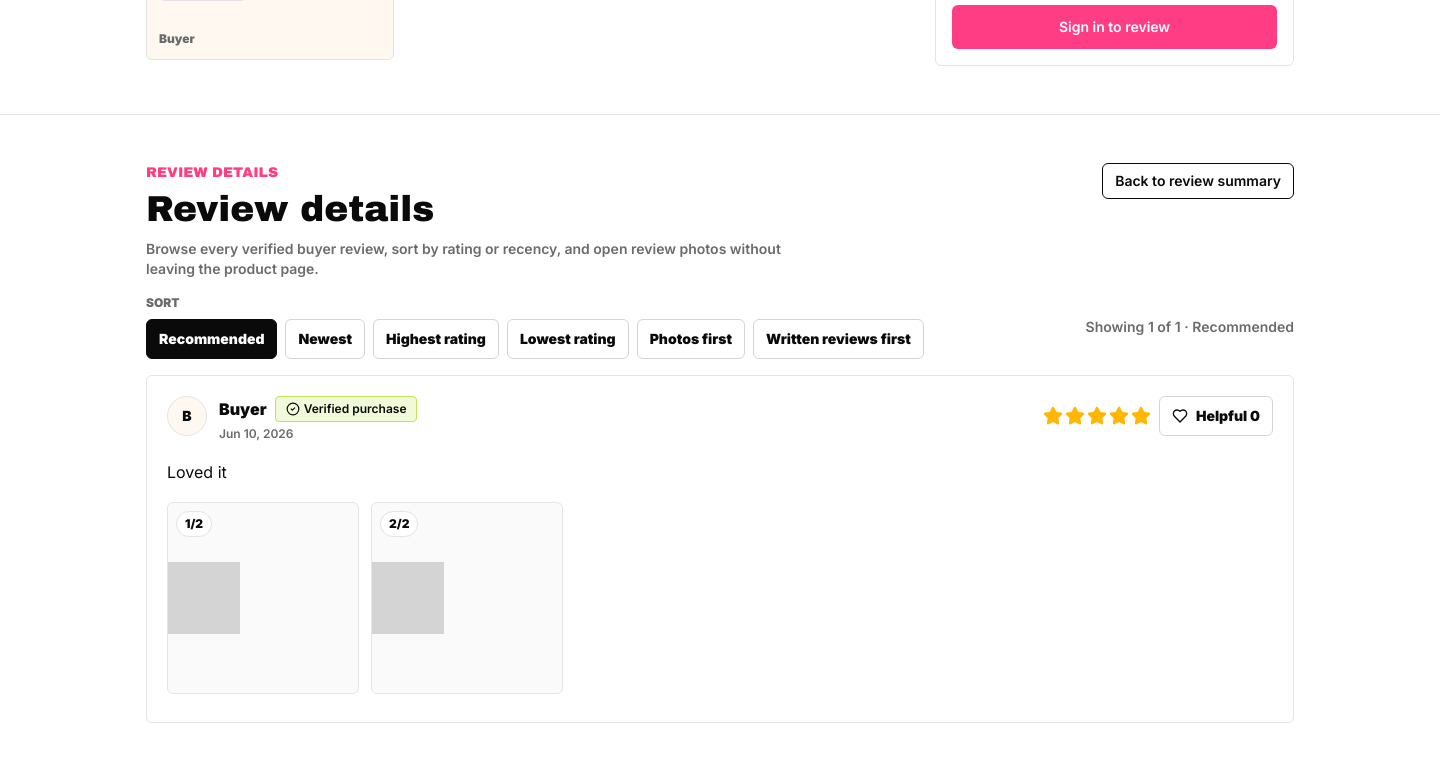
Test case: ProductReviewsSection › uses photo dialog thumbnails for direct photo navigation
The width and height of the screenshot is (1440, 771).
(page scrolled)
Click the button named "Open review photo 1 from Buyer". click: x=263, y=598
box: x1=167 y1=502 x2=359 y2=694
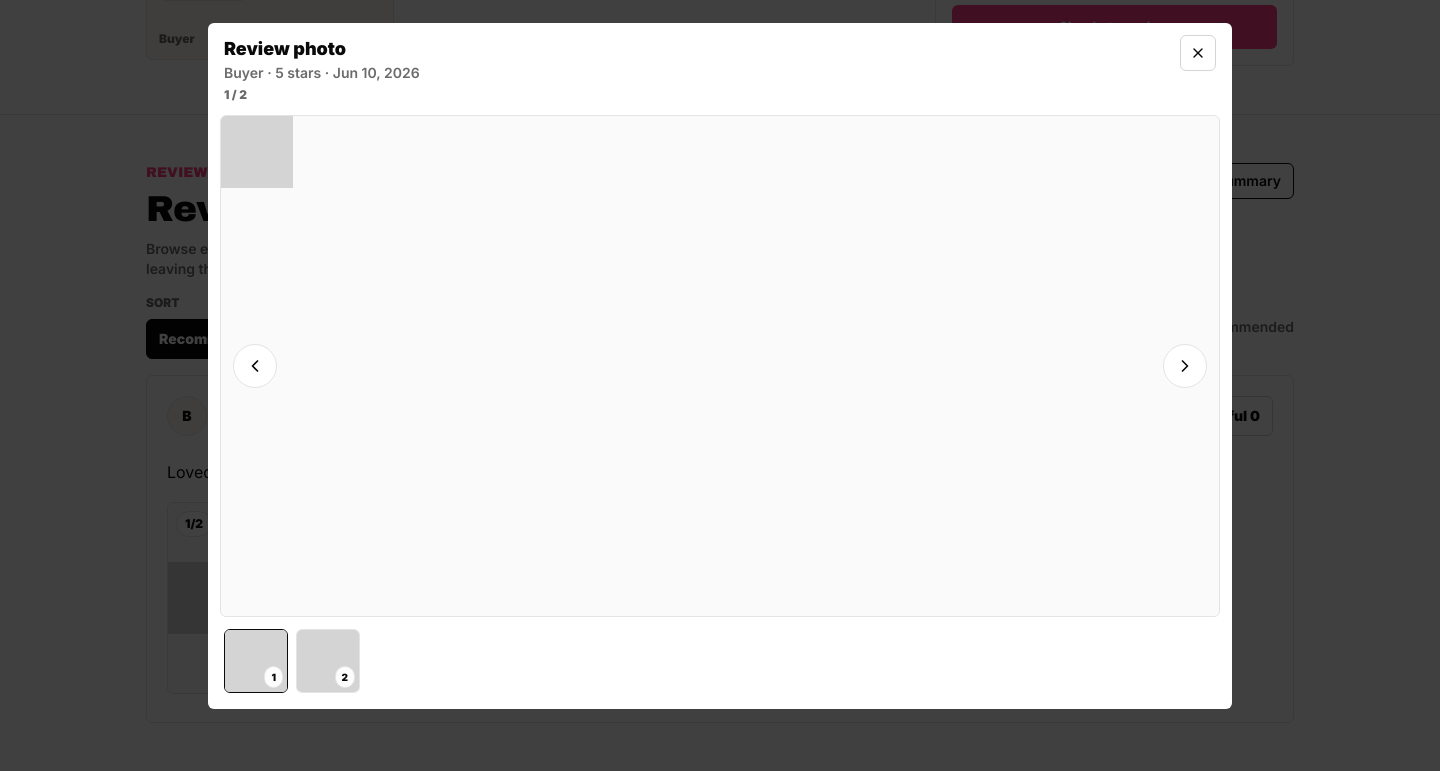
Click the button named "Show review photo 2". click: x=328, y=661
box: x1=296 y1=629 x2=360 y2=693
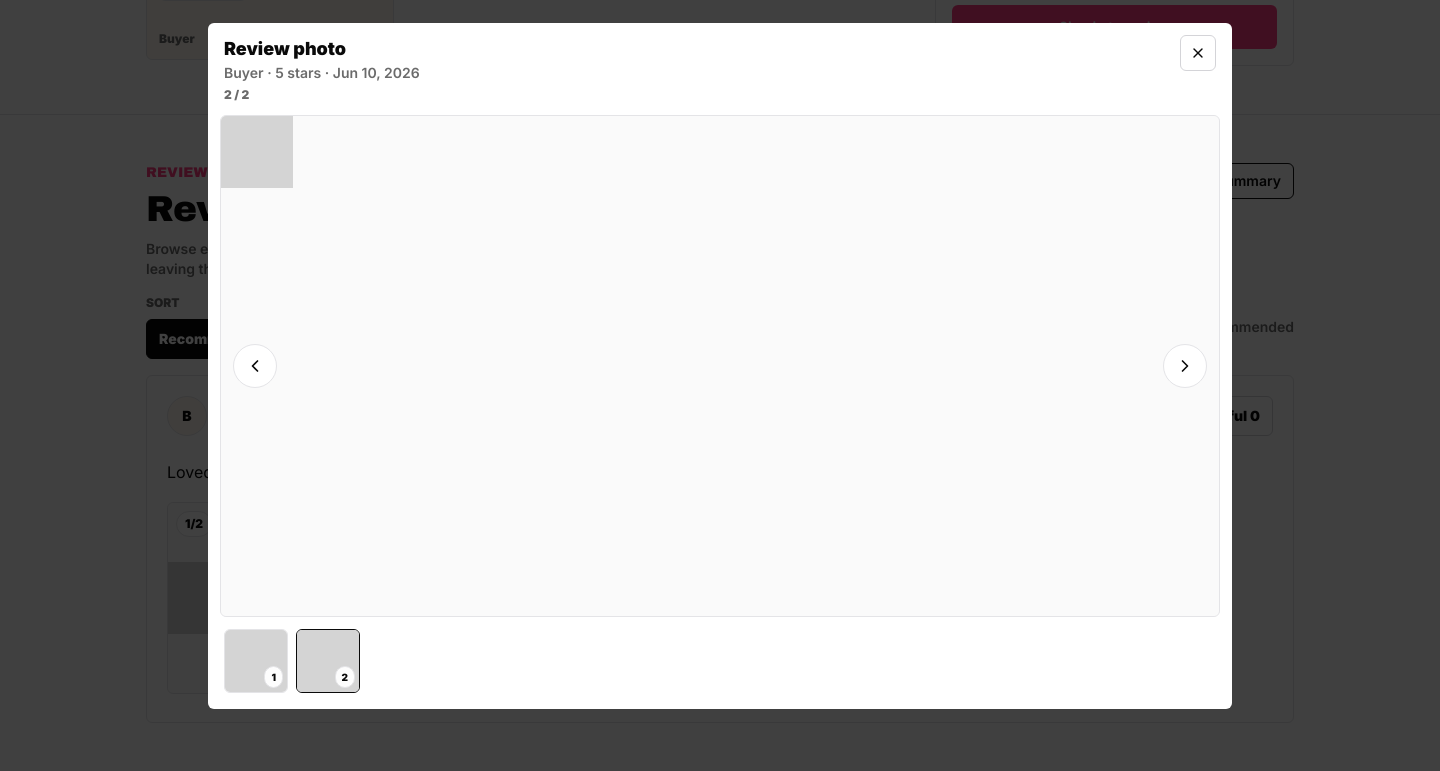
Expected: the text "2 / 2" is shown, x1=224 y1=87 x2=249 y2=102
